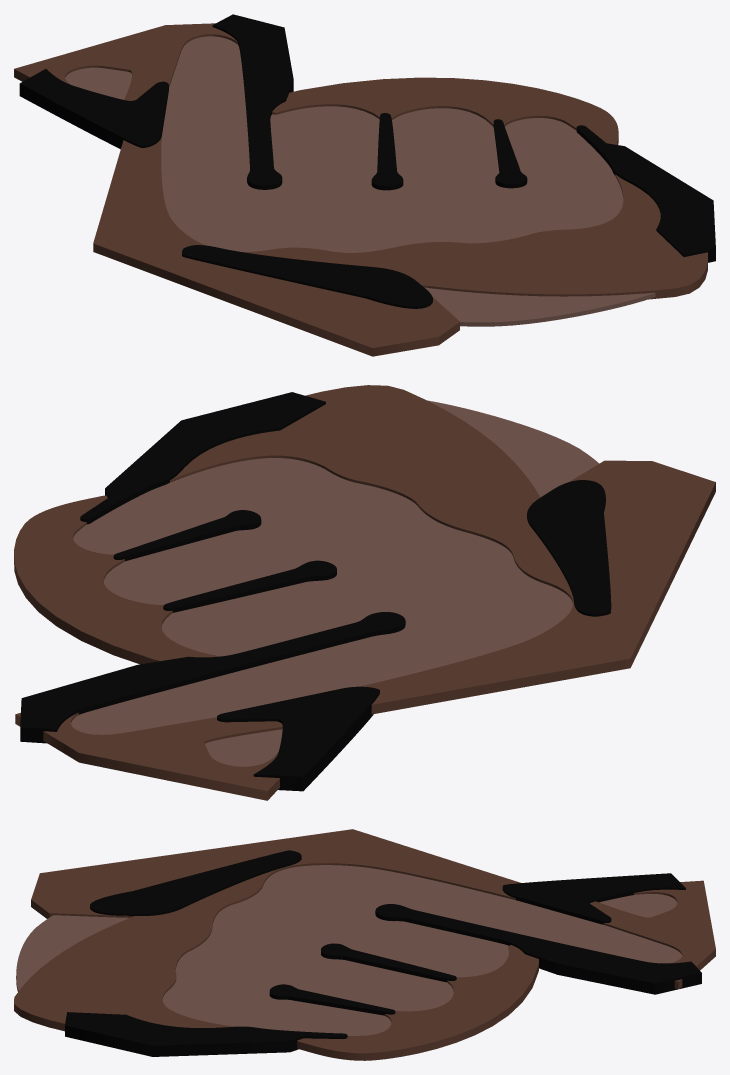
The model's file is emoji_u1faf0_1f3ff.glb.
The picture shows the model from 3 angles, top to bottom: view 1: azimuth 30°, elevation 25°; view 2: azimuth 150°, elevation 25°; view 3: azimuth 270°, elevation 25°; orthographic projection. The views are drawn at different scales.
Parts seen in each view (by area): view 1: emoji_u1faf0_1f3ff; view 2: emoji_u1faf0_1f3ff; view 3: emoji_u1faf0_1f3ff.
Part boxes in pixels (<box>): emoji_u1faf0_1f3ff: <box>14,14,715,356</box>; emoji_u1faf0_1f3ff: <box>14,385,715,800</box>; emoji_u1faf0_1f3ff: <box>14,829,715,1060</box>.
Bounding box in the file's own units: 0.0257 × 0.0006 × 0.0339.
